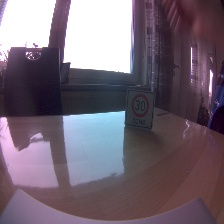dreisiger_zone: (124, 89, 154, 131)
